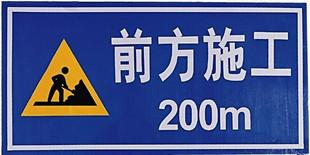sign: (7, 7, 305, 148)
